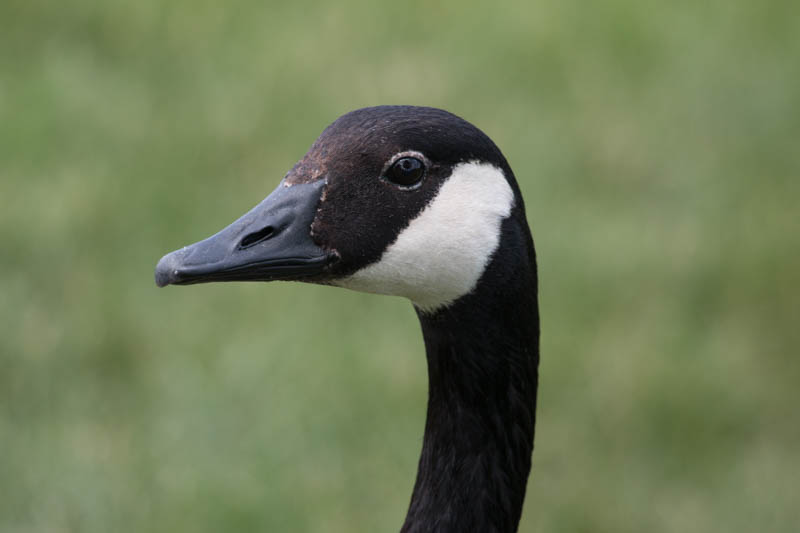goose-head: (155, 104, 537, 311)
